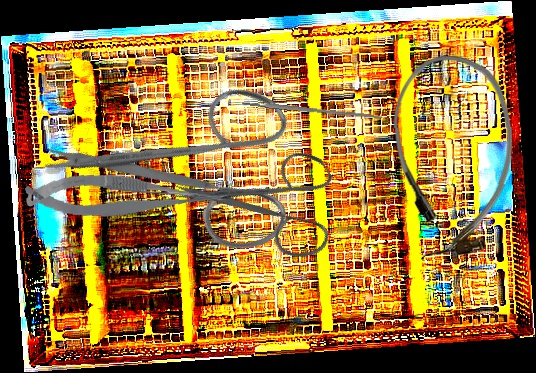Cannula: (392, 54, 514, 258)
Iris Scissors: (35, 25, 339, 324), (167, 110, 363, 303)
Micro Scissor: (23, 164, 229, 233)
Scalpel Handle: (242, 99, 382, 121)
